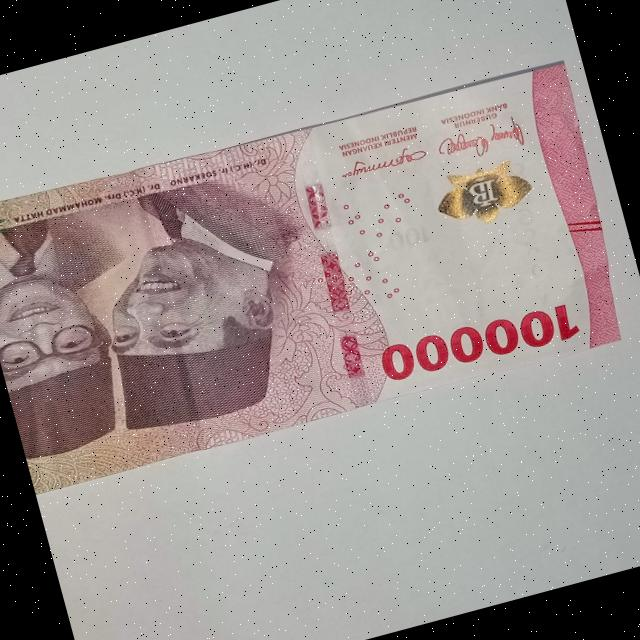100K: (0, 35, 640, 502)
